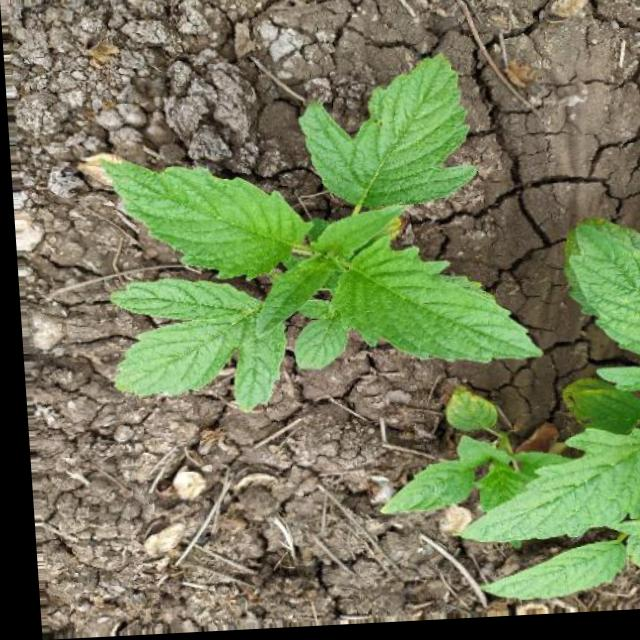crop: (58, 25, 541, 473)
